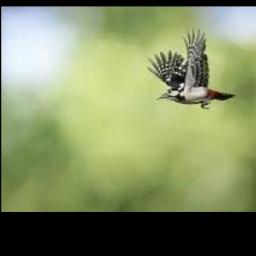Woodpecker: (146, 26, 234, 109)
